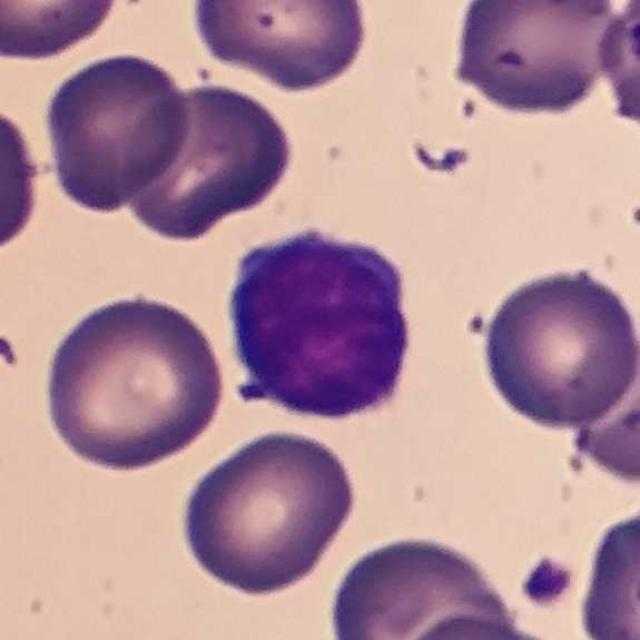Lymphocyte: (216, 213, 426, 433)
Platelets: (516, 552, 578, 612), (408, 141, 476, 177), (0, 329, 23, 371)
RBC: (36, 286, 230, 474), (172, 423, 363, 601), (115, 78, 302, 247), (473, 259, 639, 434), (38, 46, 196, 216), (444, 0, 627, 124), (320, 536, 506, 640), (185, 0, 374, 96), (562, 321, 640, 493), (0, 0, 131, 65), (575, 508, 640, 638), (0, 113, 50, 254), (390, 610, 568, 640), (604, 1, 640, 139)
